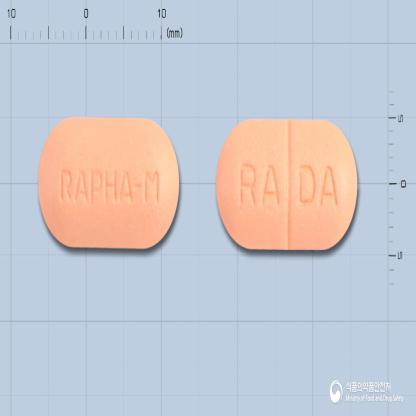pill: (37, 115, 181, 249), (214, 117, 358, 249)
